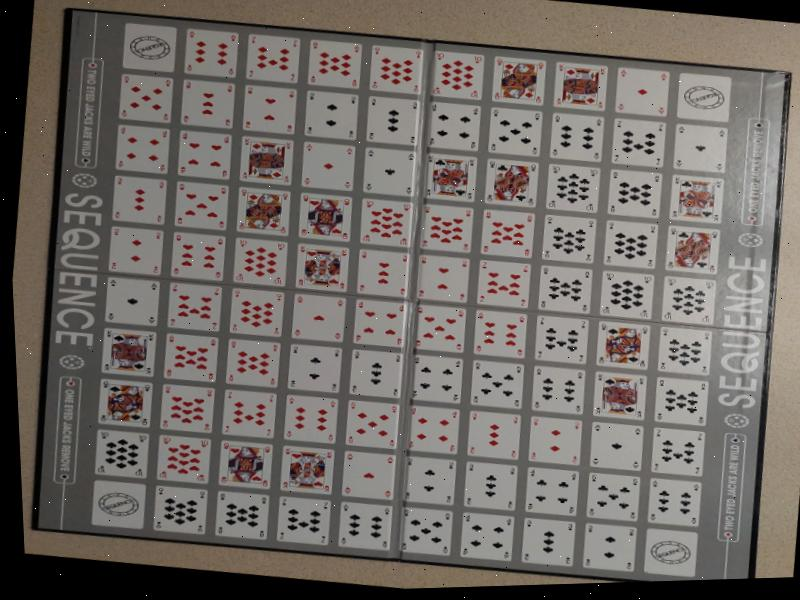Board: (0, 0, 800, 600)
